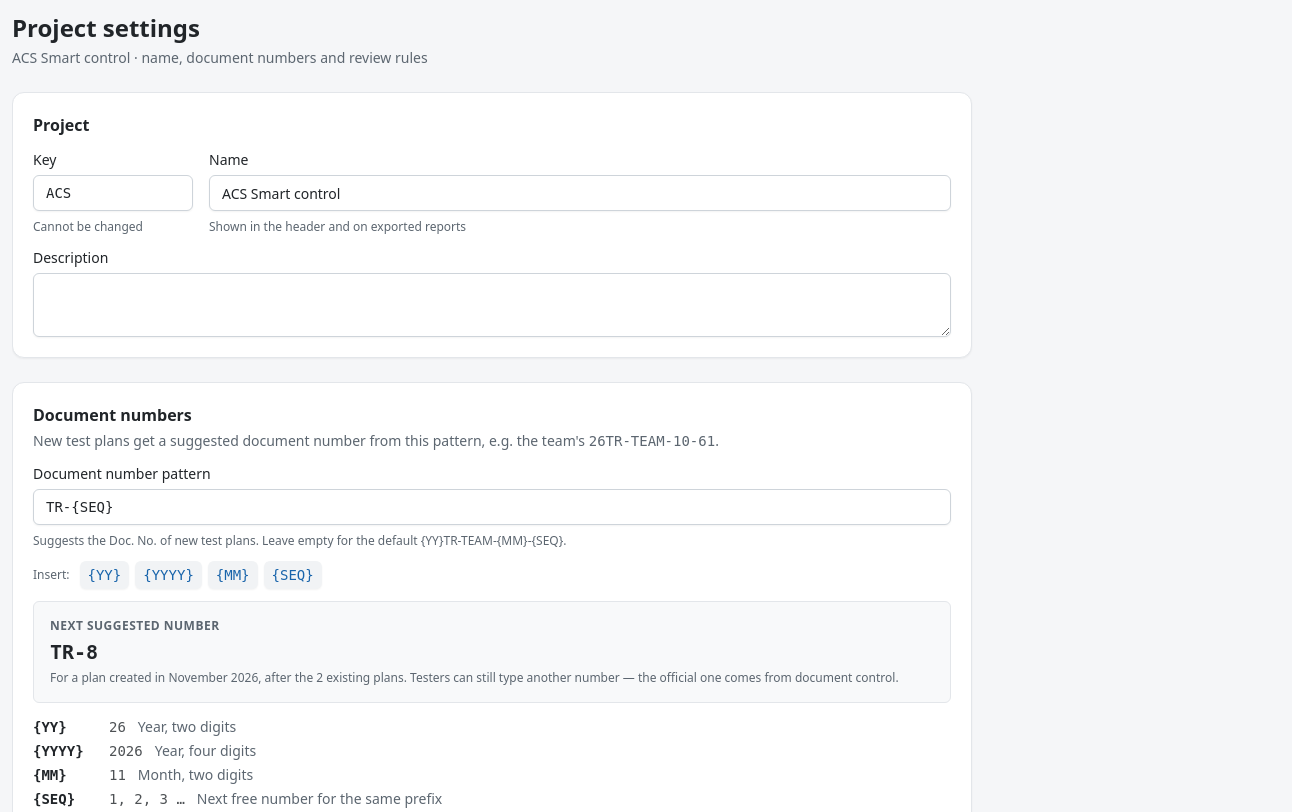
Scenario: GeneralSettingsPage › saves the settings and shows server validation errors next to the field
Step 1. Replace the text in the field labelled "Name" with "Admin" → point(580, 193), box [209,175,951,211]
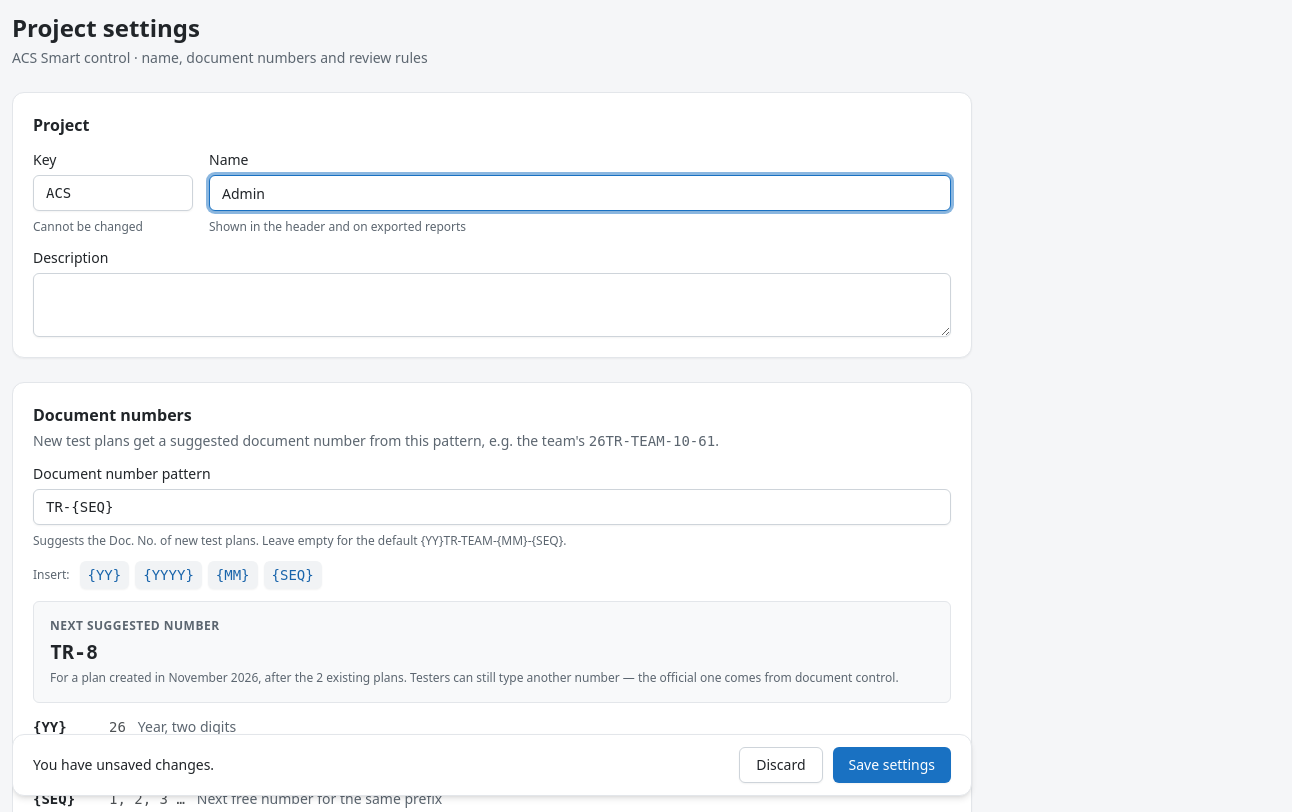
Expected: the text "You have unsaved changes." is shown, [33,755,214,775]
Step 2. Click the button "Save settings" → point(892, 765), box [832,747,951,783]
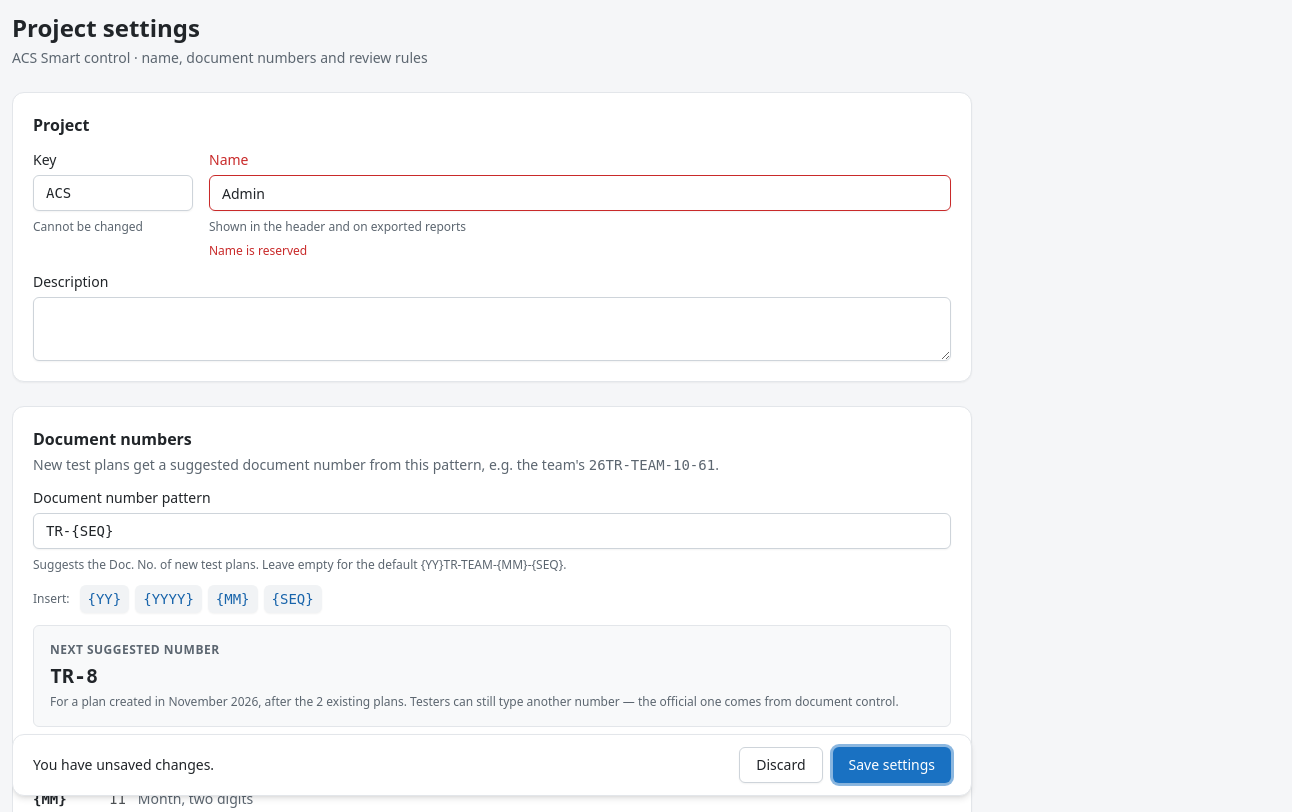
Expected: the text "Name is reserved" is shown, [209,242,307,259]
Step 3. Click the button "Discard" → point(781, 765), box [739,747,822,783]
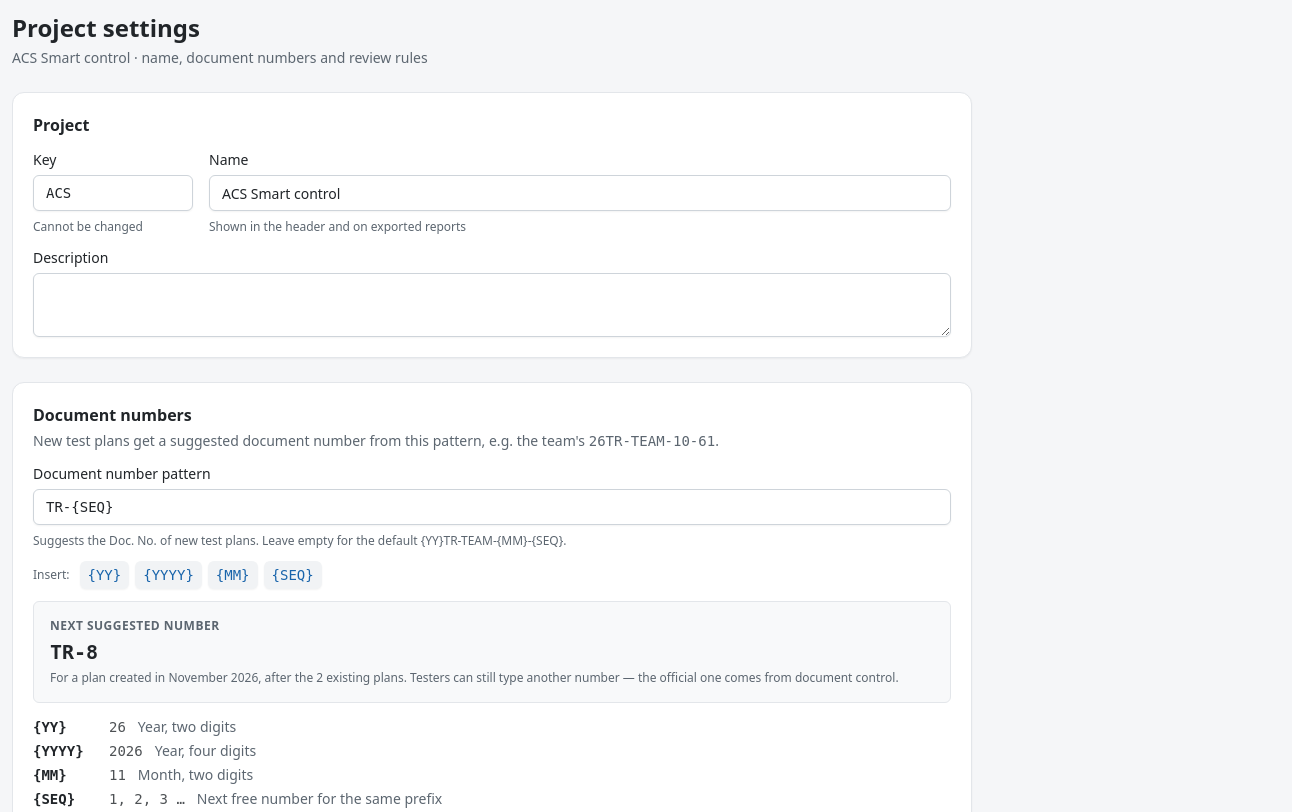
Expected: the field labelled "Name" holds "ACS Smart control", [209,175,951,211]
